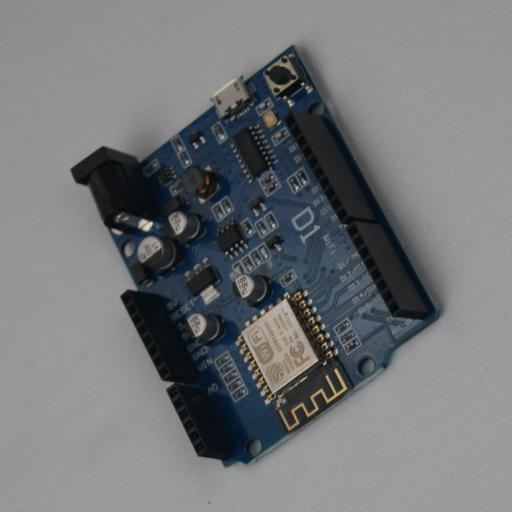Arduino Uno WiFi Shield: (70, 45, 444, 467)
